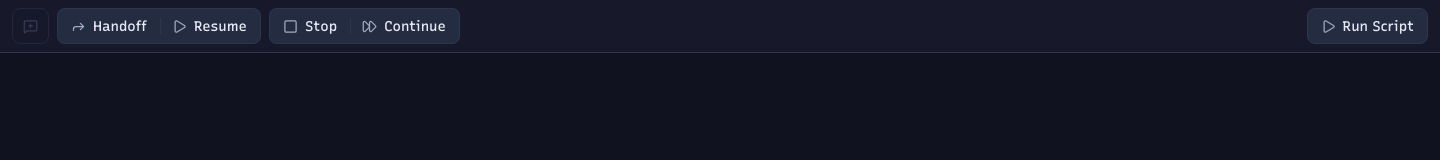
Test: ActionBar › copies full command including PowerShell prefix when configured on the action
Right-click the button "Run Script" at (1367, 26), box [1310,11,1425,41]
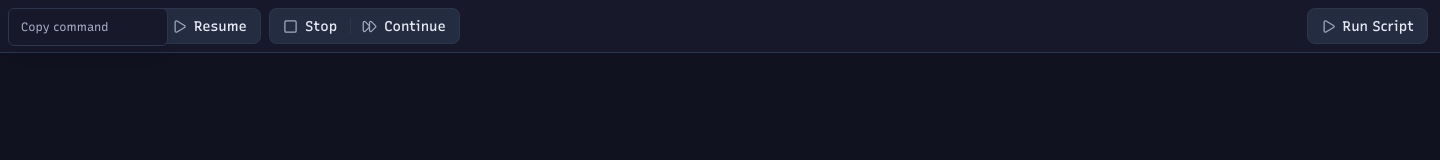
Click the menu item with test id "action-context-copy-command" at (88, 27), box [9,13,167,41]
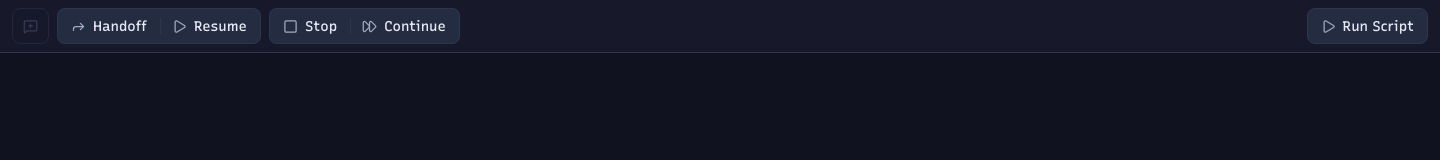
Result: the element with test id "action-context-menu" is gone
